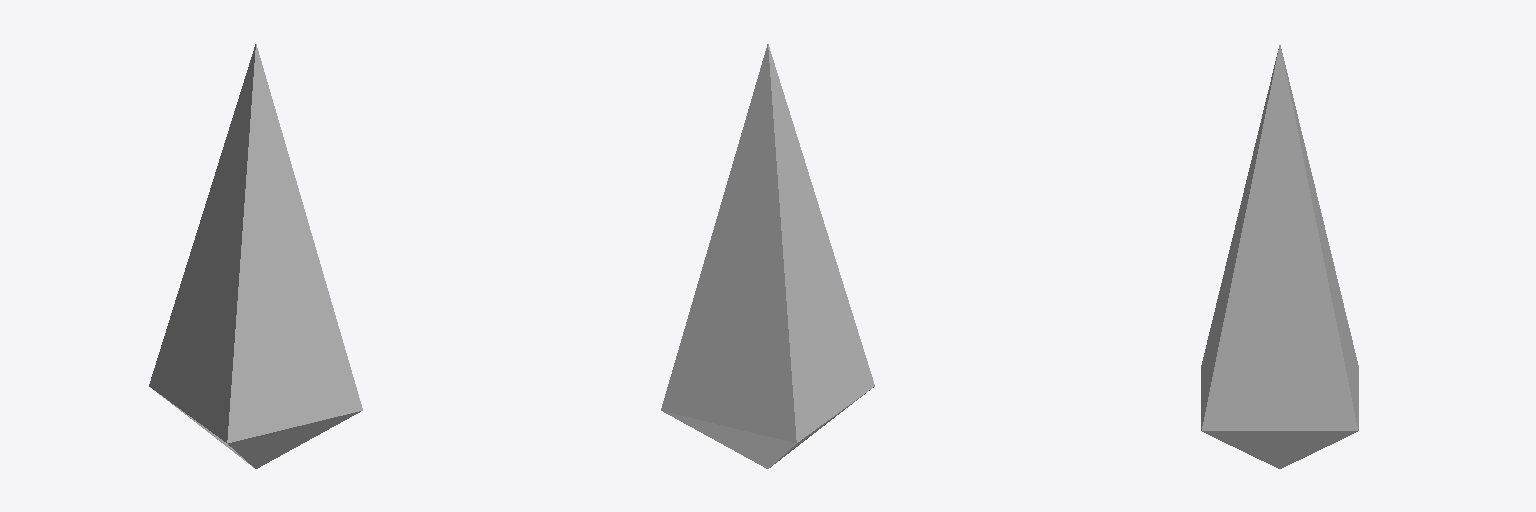
The model's file is bone.obj.
3 views of the same model, side by side, from view 1: azimuth 30°, elevation 25°; view 2: azimuth 150°, elevation 25°; view 3: azimuth 270°, elevation 25° (orthographic).
Parts seen in each view (by area): view 1: Bone_Plane; view 2: Bone_Plane; view 3: Bone_Plane.
Part boxes in pixels (bbox=[...]): Bone_Plane: bbox=[149, 44, 362, 468]; Bone_Plane: bbox=[661, 44, 874, 468]; Bone_Plane: bbox=[1201, 45, 1358, 468].
Size of the model in its own units: 2 by 6 by 2.